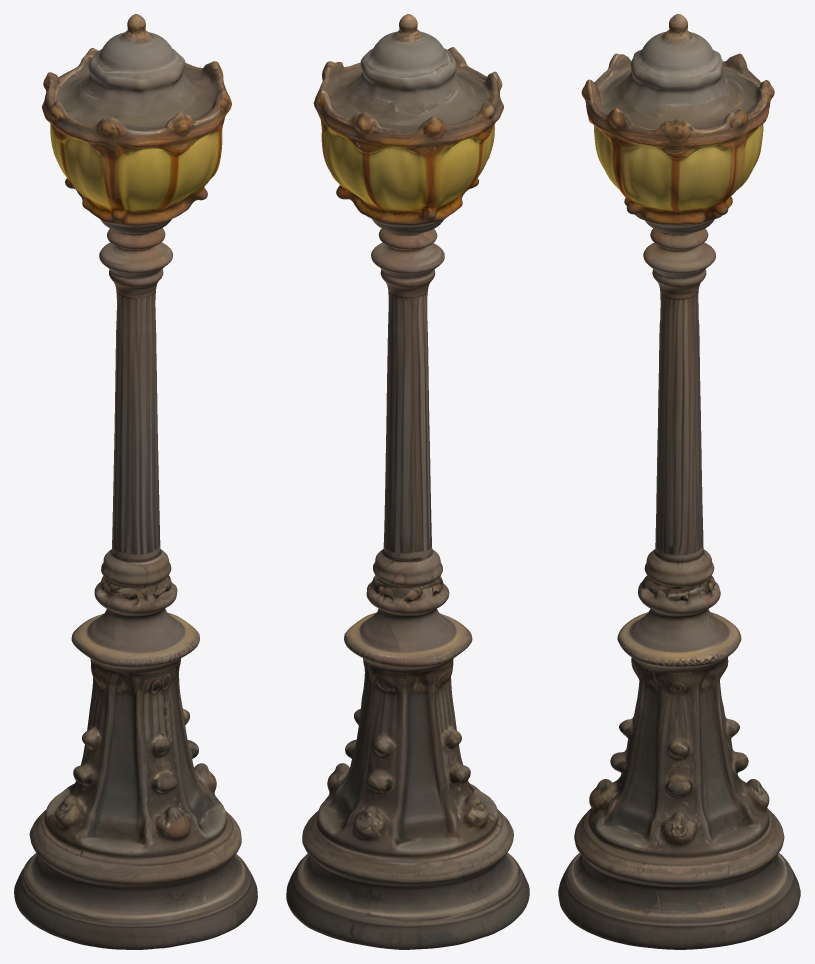
Rendered from fx_glow_lamppost.glb.
3 renders of one model, left to right at view 1: azimuth 30°, elevation 25°; view 2: azimuth 150°, elevation 25°; view 3: azimuth 270°, elevation 25°, orthographic.
Parts seen in each view (by area): view 1: tripo_node_8b700f46-a2e6-4174-97e9-c83858081e01; view 2: tripo_node_8b700f46-a2e6-4174-97e9-c83858081e01; view 3: tripo_node_8b700f46-a2e6-4174-97e9-c83858081e01.
Part boxes in pixels (x1,y1,x2,y2): tripo_node_8b700f46-a2e6-4174-97e9-c83858081e01: (14,14,257,949); tripo_node_8b700f46-a2e6-4174-97e9-c83858081e01: (286,14,529,949); tripo_node_8b700f46-a2e6-4174-97e9-c83858081e01: (558,14,800,949).
Bounding box in the file's own units: 0.2347 × 0.9483 × 0.2351.
1 material, 1 textured.
